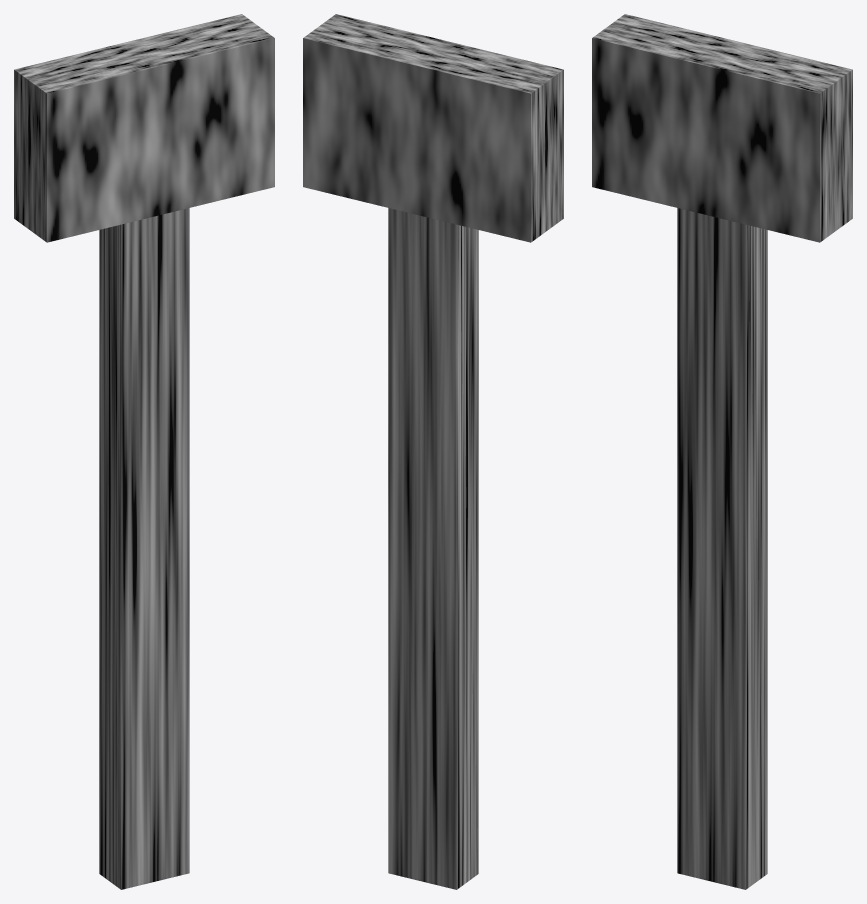
The model's file is wrench.glb.
3 renders of one model, left to right at view 1: azimuth 30°, elevation 25°; view 2: azimuth 150°, elevation 25°; view 3: azimuth 330°, elevation 25°, orthographic.
Visible parts, largest first — view 1: wrench; view 2: wrench; view 3: wrench.
Boxes of the visible parts, x1,y1,x2,y2 form: wrench: (14, 14, 274, 889); wrench: (303, 14, 563, 889); wrench: (592, 14, 852, 889).
Size of the model in its own units: 0.06 by 0.2062 by 0.015.
1 material, 1 textured.
